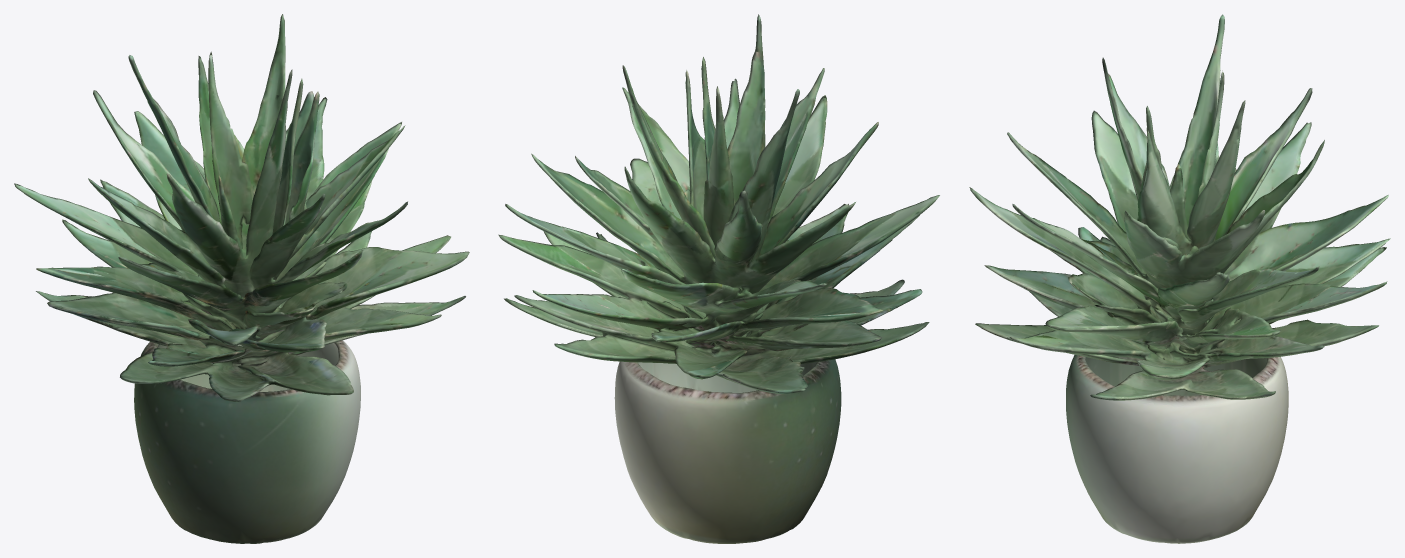
The model's file is Aloevera.glb.
3 renders of one model, left to right at view 1: azimuth 30°, elevation 25°; view 2: azimuth 150°, elevation 25°; view 3: azimuth 270°, elevation 25°, orthographic. The views are drawn at different scales.
Size of the model in its own units: 1.67 by 1.99 by 1.65.
Materials: 1 (1 with a texture image).
